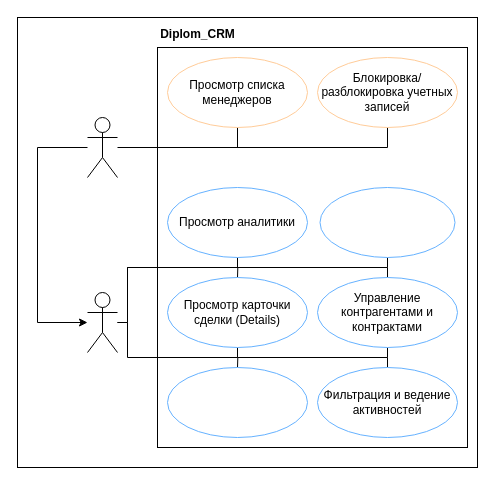
This 495x485 diagram has some shape labels left out. The shapes that lost their labels are listed below. From the top down, each one's centre as x and y in pixels, then its label:
At point 102,147: "Администратор".
At point 387,222: "Управление Канбан-доской сделок".
At point 102,322: "Менеджер".
At point 237,402: "Управление контрагентами и контактами".
